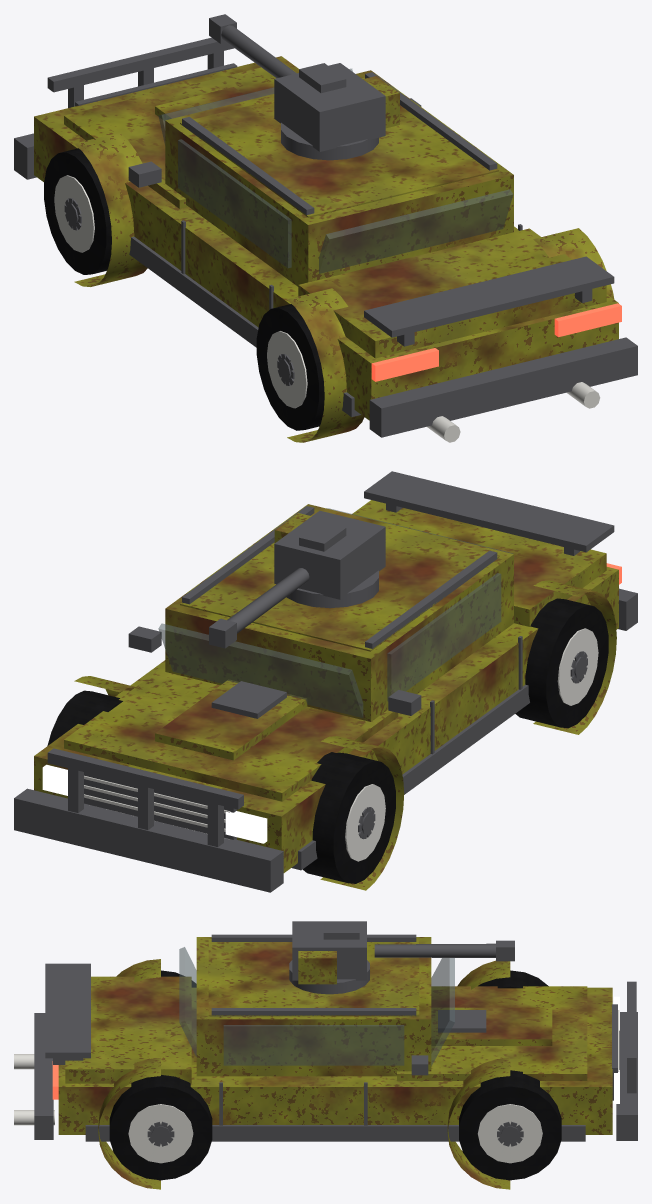
The model's file is enemy_raider_a.glb.
The picture shows the model from 3 angles, top to bottom: view 1: azimuth 30°, elevation 25°; view 2: azimuth 150°, elevation 25°; view 3: azimuth 270°, elevation 25°; orthographic projection. The views are drawn at different scales.
Visible parts, largest first — view 1: raiderA_Body, Turret, Hood, Wheel_RL, Wheel_FL, Barrel; view 2: raiderA_Body, Hood, Wheel_FL, Wheel_RL, Turret, Barrel, Wheel_FR; view 3: raiderA_Body, Hood, Wheel_FR, Wheel_RR, Turret, Barrel, Wheel_FL.
Boxes of the visible parts, box(x1,y1,x2,y2) form: raiderA_Body: box(14, 37, 637, 442); Turret: box(274, 63, 399, 160); Hood: box(64, 62, 296, 208); Wheel_RL: box(256, 304, 324, 430); Wheel_FL: box(44, 148, 111, 274); Barrel: box(209, 14, 296, 78); raiderA_Body: box(14, 471, 637, 892); Hood: box(64, 666, 398, 801); Wheel_FL: box(303, 752, 395, 883); Wheel_RL: box(515, 598, 608, 728); Turret: box(274, 510, 385, 608); Barrel: box(209, 568, 309, 648); Wheel_FR: box(47, 690, 122, 745); raiderA_Body: box(14, 934, 637, 1189); Hood: box(397, 986, 587, 1080); Wheel_FR: box(459, 1070, 561, 1180); Wheel_RR: box(109, 1075, 212, 1180); Turret: box(289, 921, 369, 994); Barrel: box(374, 940, 514, 961); Wheel_FL: box(478, 970, 548, 988).
Size of the model in its own units: 2.34 by 1.86 by 5.18.
7 materials, 2 textured.
